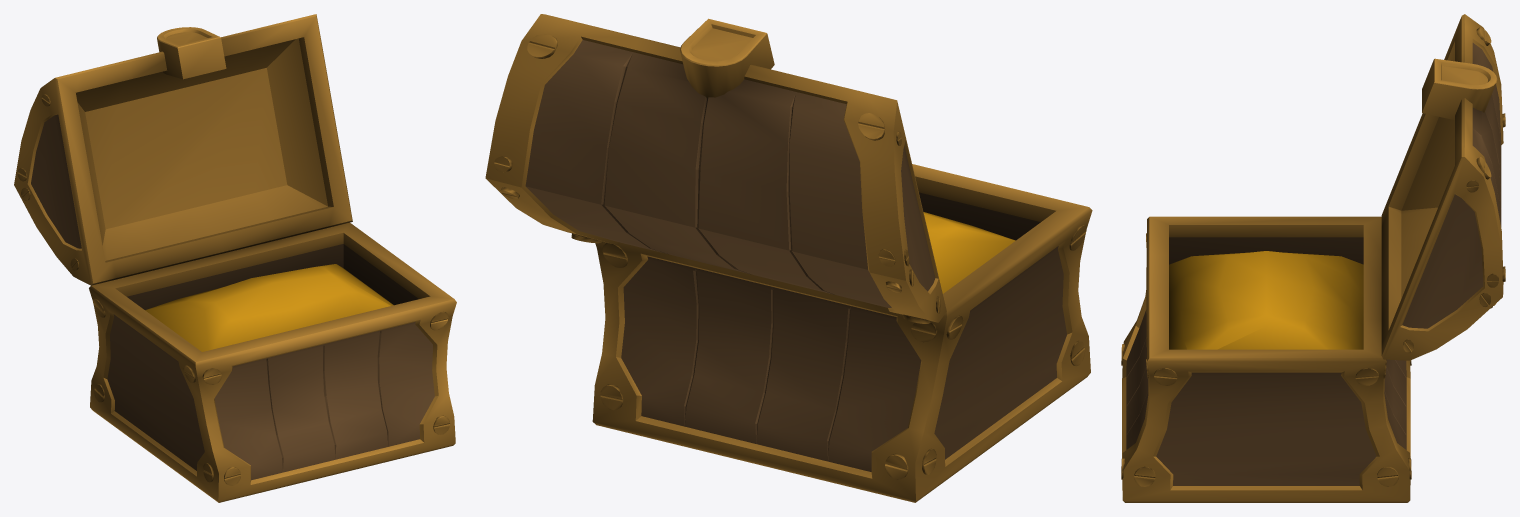
The model's file is obj_chestOpen_body.FBX.
3 renders of one model, left to right at view 1: azimuth 30°, elevation 25°; view 2: azimuth 150°, elevation 25°; view 3: azimuth 270°, elevation 25°, orthographic. The views are drawn at different scales.
Visible parts, largest first — view 1: obj_chestOpen_body; view 2: obj_chestOpen_body; view 3: obj_chestOpen_body.
Part boxes in pixels (x1=…): obj_chestOpen_body: x1=14, y1=14, x2=456, y2=502; obj_chestOpen_body: x1=485, y1=14, x2=1092, y2=502; obj_chestOpen_body: x1=1121, y1=14, x2=1505, y2=502.
Bounding box in the file's own units: 2.35 × 2.4 × 2.26.
